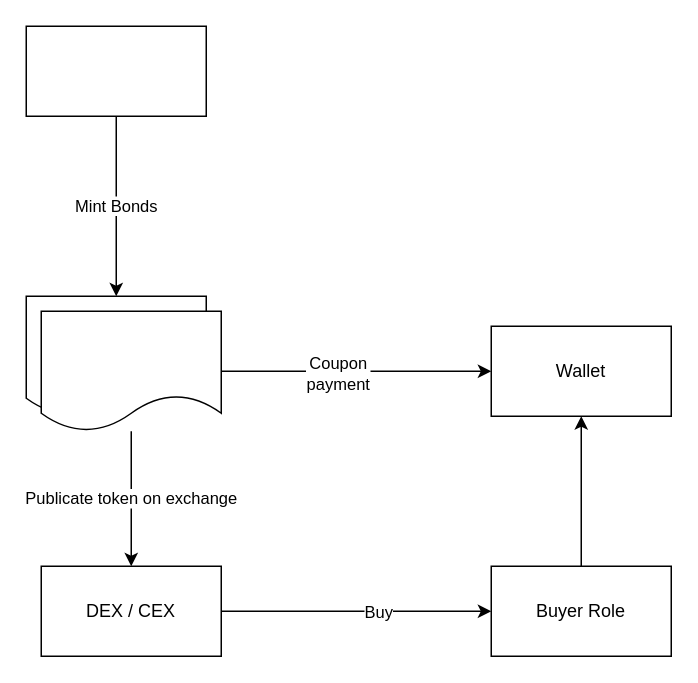
Some shapes in this 698 by 683 pixel diagram are drawn without their labels. Here are the shapes that lost their labels. From the top down, the centre of each, then its label:
At (115,70): "Issuer Role".
At (130,370): "Bond Smart Contracts (ERC-20)".
